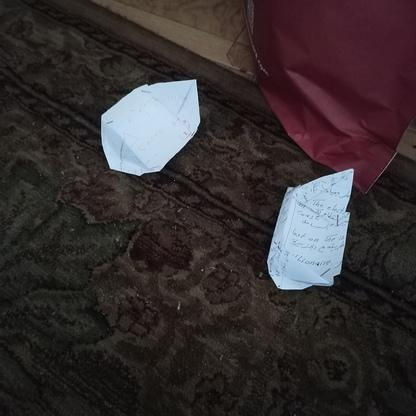paper: (268, 172, 354, 290), (104, 81, 200, 174)
